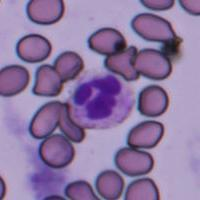N: (68, 72, 133, 128)
